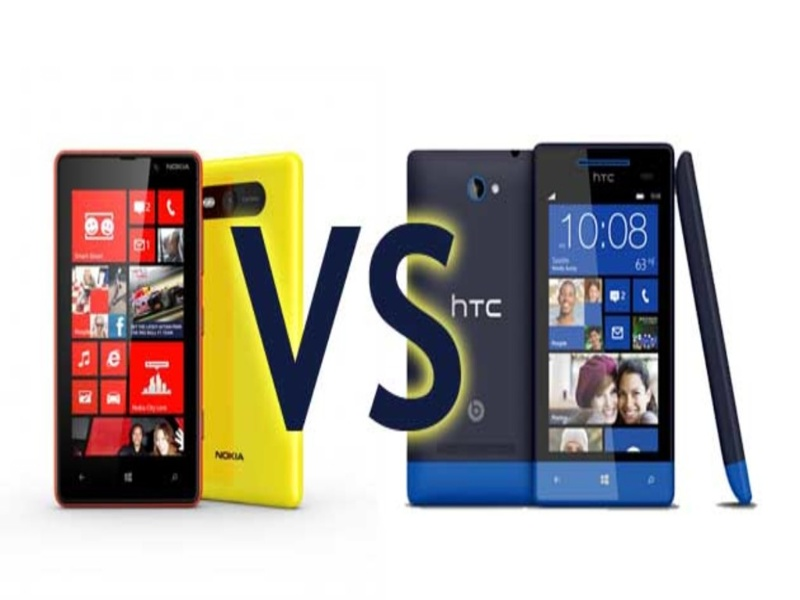cellphone: (52, 143, 206, 513), (532, 142, 679, 515), (676, 132, 761, 511)
